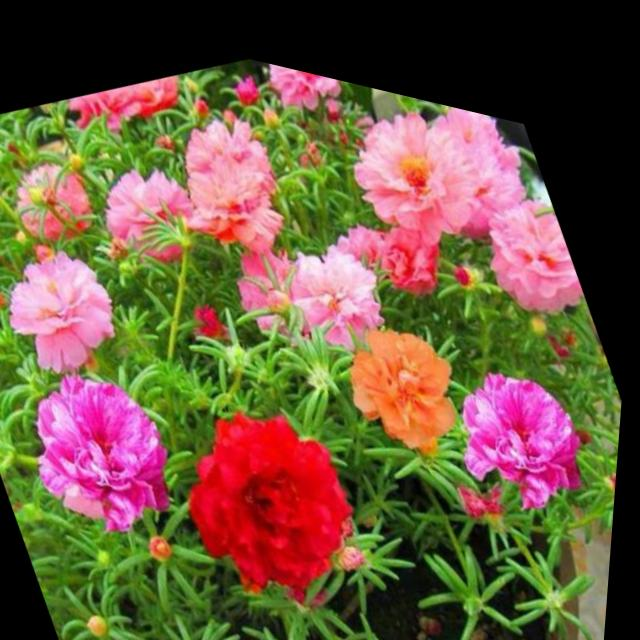Flower: (156, 344, 400, 629), (11, 332, 220, 566), (434, 308, 610, 514), (323, 259, 491, 458), (158, 71, 320, 262), (446, 127, 597, 324), (338, 65, 498, 246), (0, 212, 148, 403), (264, 191, 412, 352), (83, 135, 223, 284), (0, 126, 133, 271), (408, 78, 533, 197), (270, 51, 371, 117), (97, 627, 250, 640)
